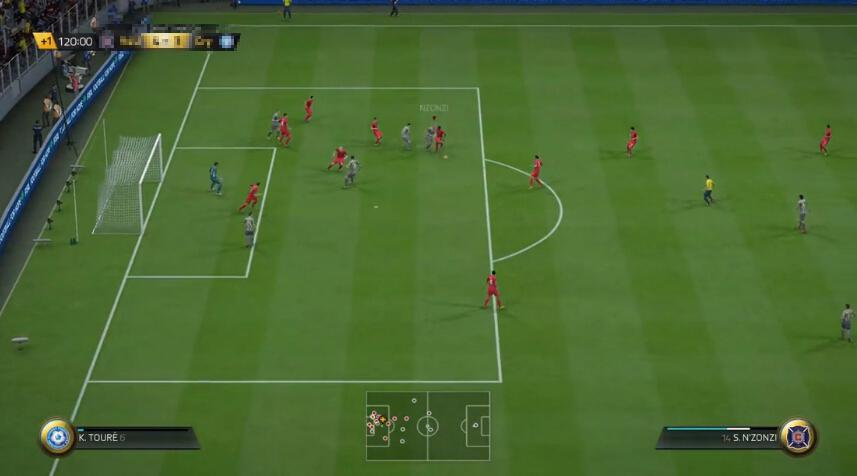ball: (443, 149, 448, 161)
goal: (75, 133, 161, 238)
player: (482, 271, 507, 310), (209, 160, 226, 198), (530, 155, 548, 189), (368, 115, 387, 146), (243, 212, 258, 248), (241, 182, 261, 209), (795, 193, 808, 232), (840, 305, 853, 343), (625, 126, 640, 158), (821, 122, 834, 156), (265, 111, 279, 140), (302, 94, 316, 122), (436, 123, 448, 153), (347, 155, 358, 186), (332, 144, 344, 172), (403, 120, 414, 150), (282, 113, 290, 145), (426, 119, 434, 148)
